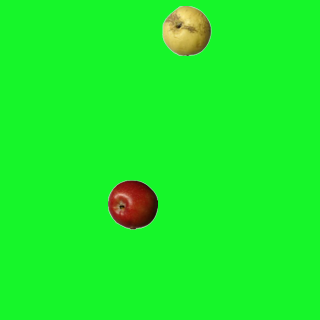Apple Braeburn: (107, 179, 157, 229)
Apple Golden 1: (161, 5, 211, 55)
